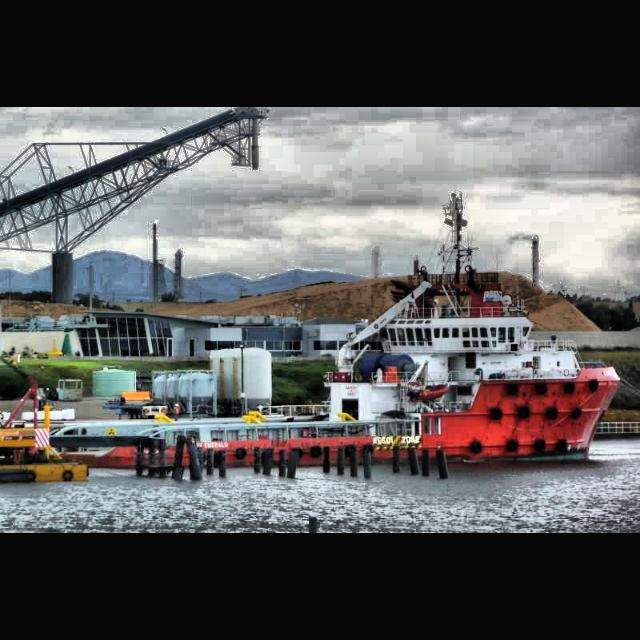anchor_handling_tug_supply: (44, 261, 624, 473)
